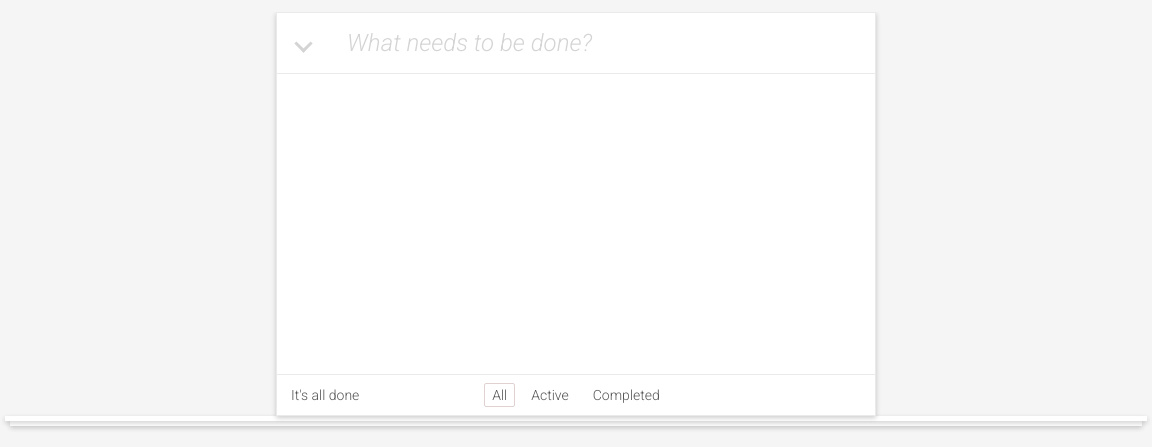
Test: TodoWidget › Добавить новую задачу
The width and height of the screenshot is (1152, 447).
Step 1. Type "kj78h.9102kj-01./5-k9311----1" into the field with test id "todo-input" → (602, 43), box [329,13,875,73]
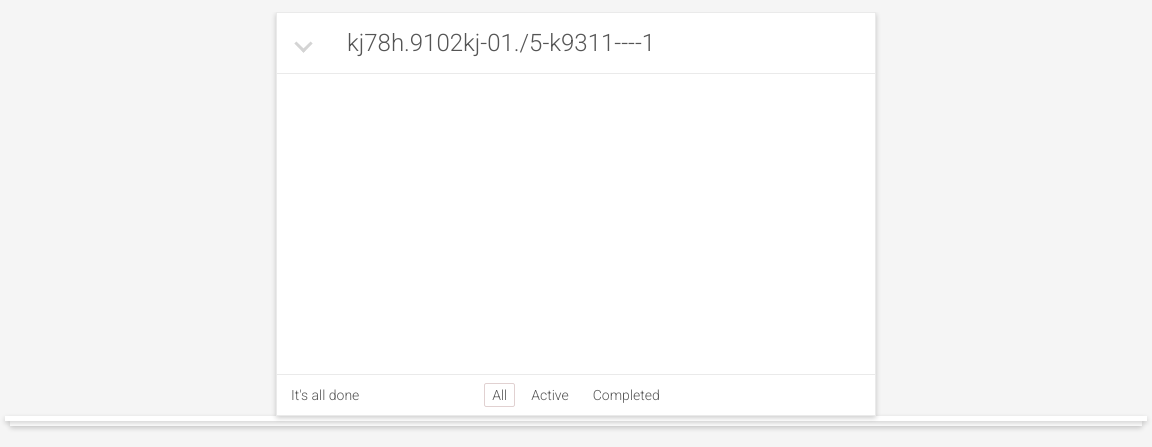
Step 2. Click the button with test id "todo-btn" → (303, 43), box [277,13,329,73]
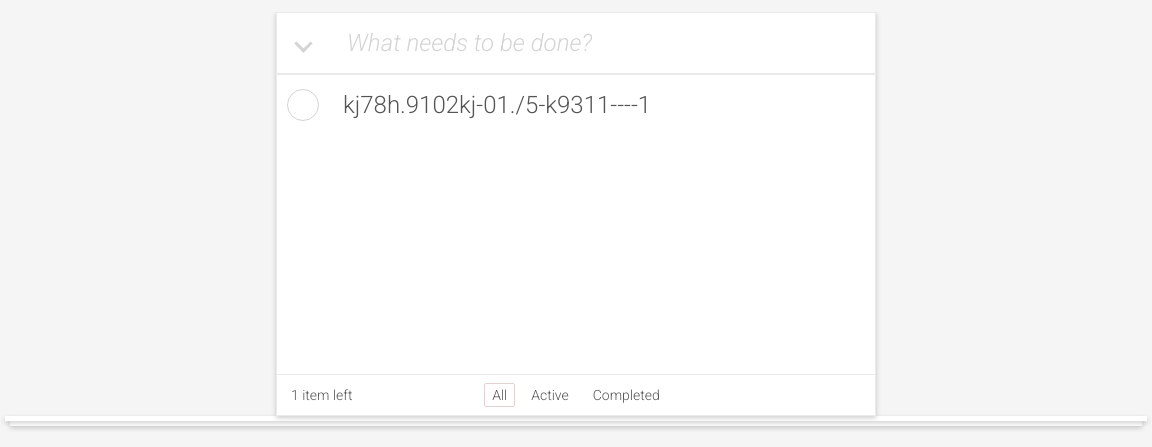
Step 3. Type "kj78h.9102kj-01./5-k9311----2" into the field with test id "todo-input" → (602, 43), box [329,13,875,73]
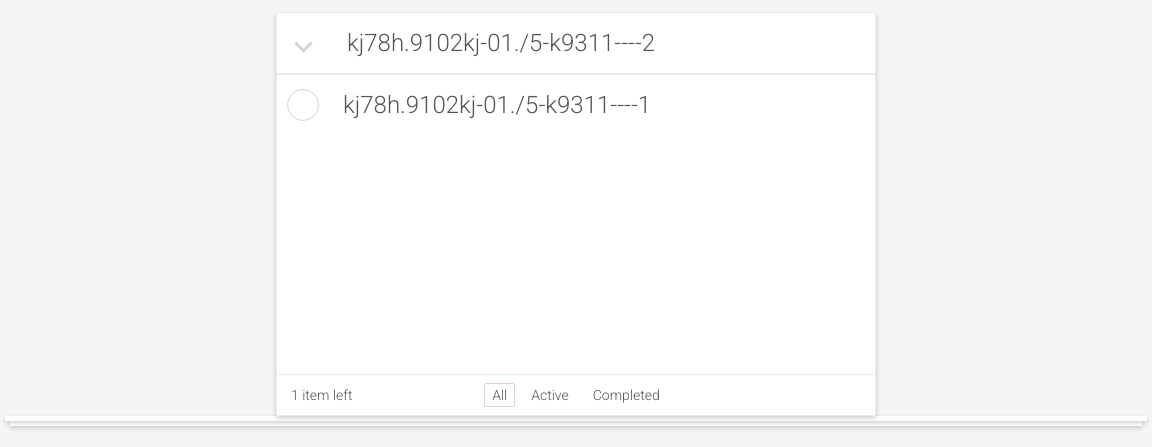
Step 4. Press Enter in the field with test id "todo-input", box [329,13,875,73]
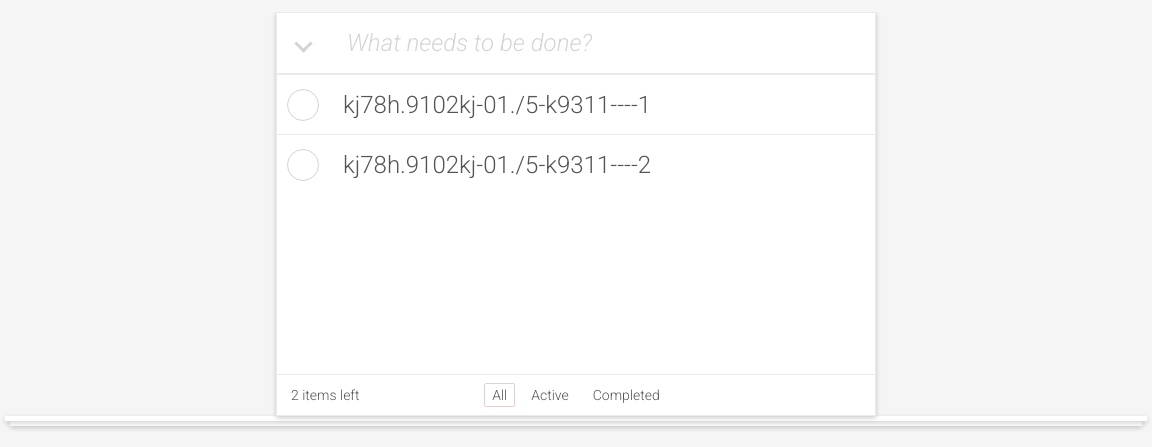
expect the text "kj78h.9102kj-01./5-k9311----1" is shown: met, box [343,90,651,118]
expect the text "kj78h.9102kj-01./5-k9311----2" is shown: met, box [343,150,651,178]
